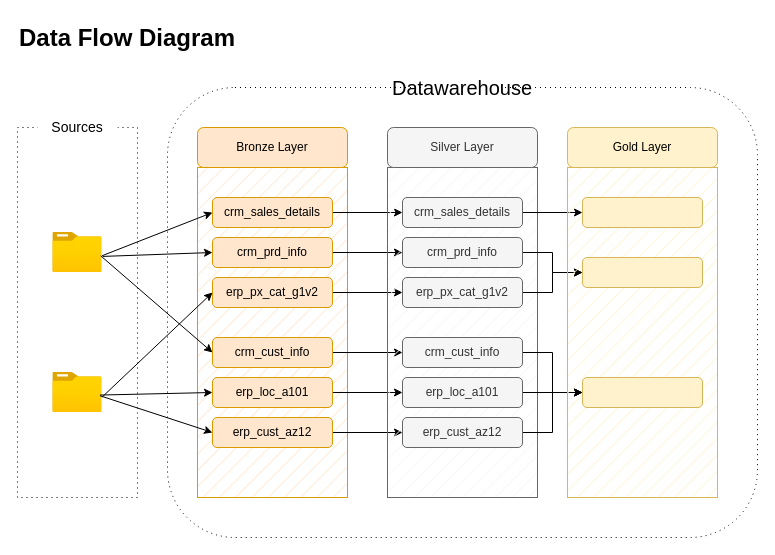
Some shapes in this 775 by 555 pixel diagram are drawn without their labels. The shapes that lost their labels are listed below. From the top down, each one's centre as x and y in pixels, then its label:
point 642,212: fact_sales
point 77,252: CRM
point 642,272: dim_products
point 77,392: ERP
point 642,392: dim_customers
